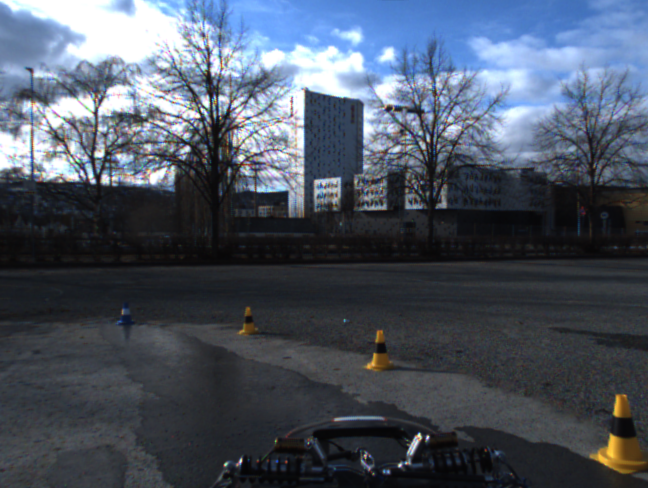cone-small-blue: (116, 301, 135, 326)
cone-small-yellow: (589, 393, 648, 474), (362, 330, 398, 372), (235, 306, 262, 336)
